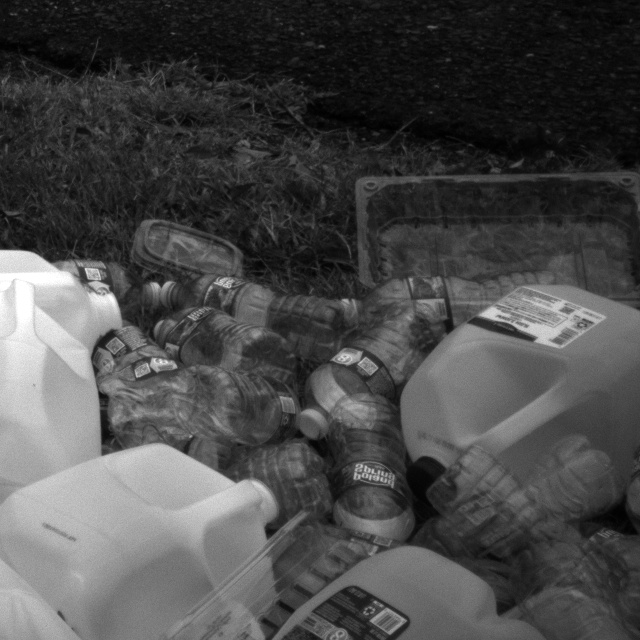bottle: (391, 403, 611, 574), (274, 308, 431, 448), (323, 350, 417, 546), (111, 307, 209, 480), (311, 408, 419, 562), (216, 420, 338, 527)
can: (389, 253, 639, 539), (0, 440, 283, 640), (0, 266, 114, 542), (242, 539, 506, 640), (0, 226, 148, 397), (0, 509, 94, 639)
container: (336, 131, 639, 319), (124, 204, 242, 293)
